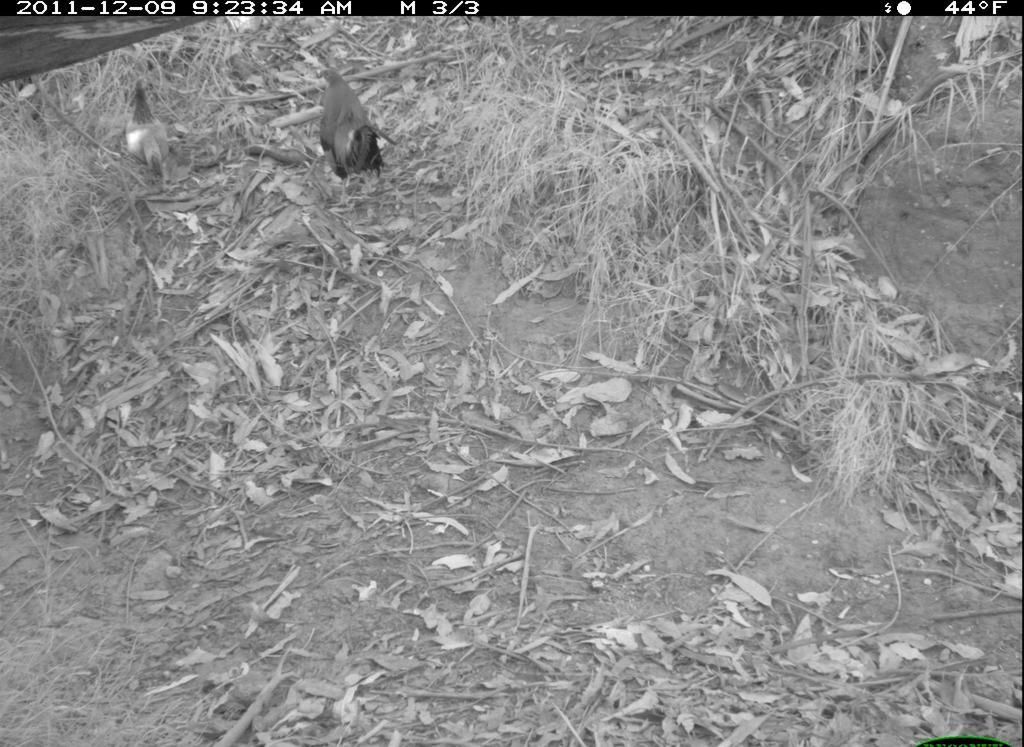bird: (303, 63, 399, 210), (119, 74, 184, 181)
